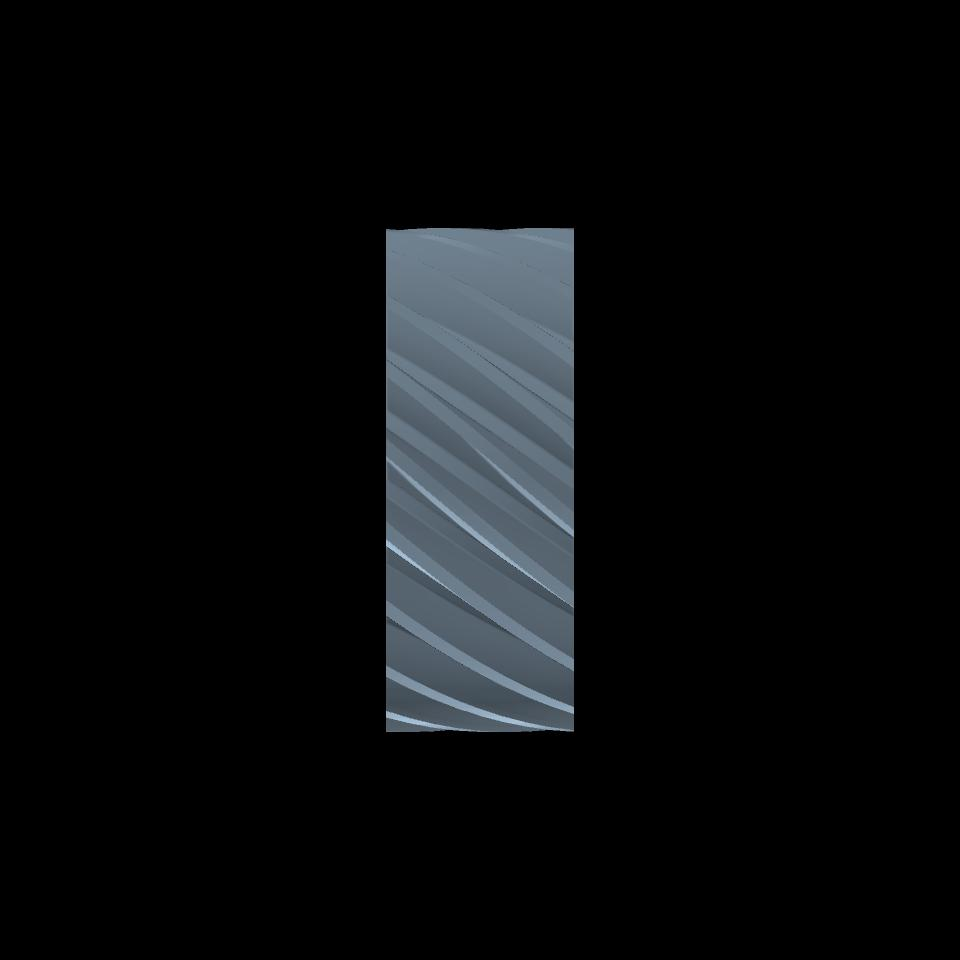Helical: (386, 227, 571, 734)
